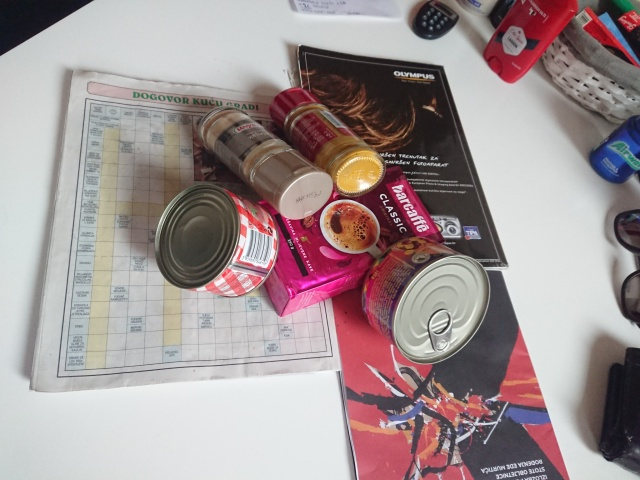Barcaffe Classic Original 225g: (229, 163, 447, 319)
Giana Tuna Salad Mexico 185g: (358, 233, 494, 367)
Kotanyi Curry Spices Mix 70g: (267, 85, 388, 199)
Kotanyi Garlic Granules 70g: (194, 103, 335, 222)
Podravka Luncheon Meat 150g: (151, 180, 282, 301)
